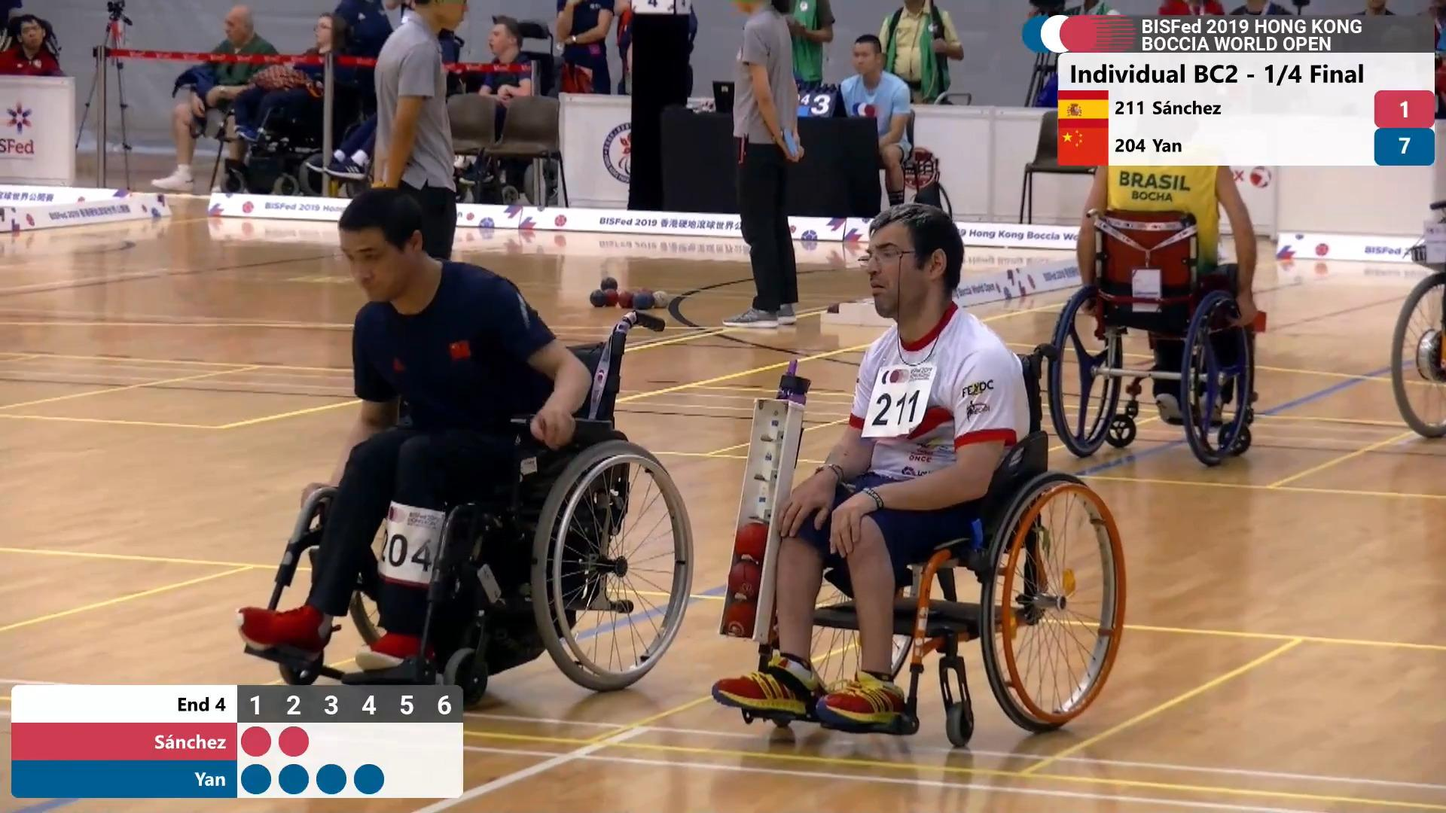blue_ball: (633, 293, 653, 310), (590, 289, 606, 307), (599, 276, 618, 291)
red_ball: (734, 523, 771, 562), (731, 563, 764, 600), (724, 603, 759, 636), (618, 290, 634, 309), (603, 289, 618, 307)
white_ball: (653, 291, 668, 308)
